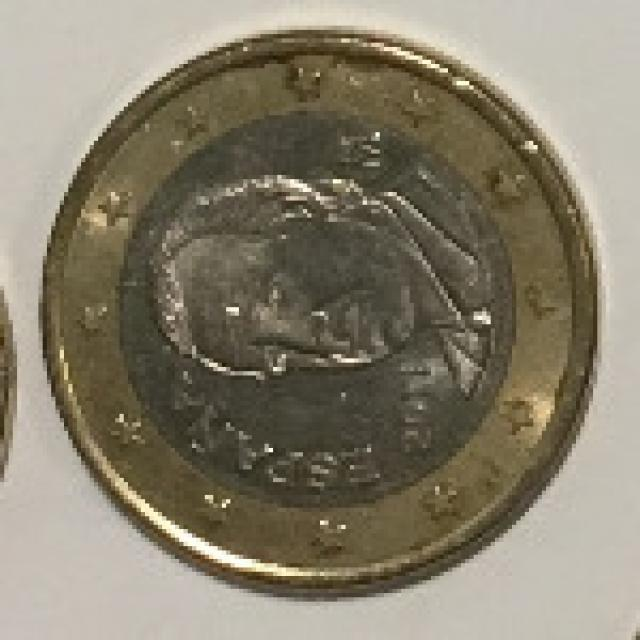1e: (17, 12, 623, 610)
